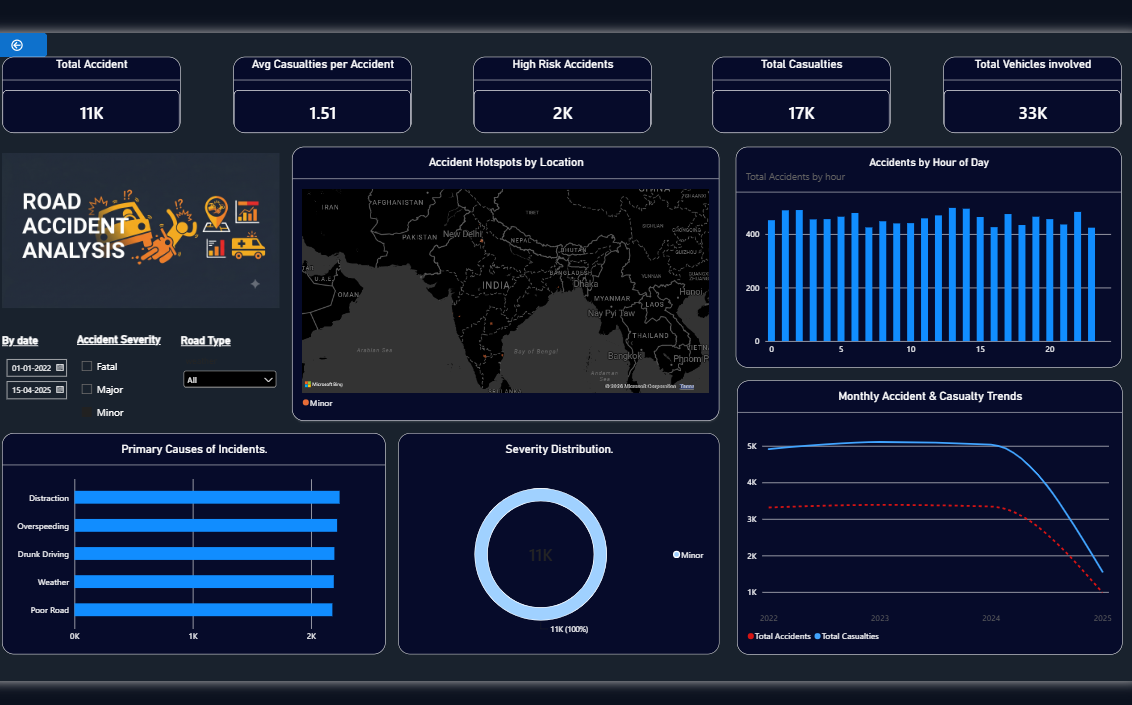

The dashboard page shown, as its layout file describes it:
{"tool":"powerbi","page":{"name":"Page 1","canvas":[1920,1080],"ordinal":0},"visuals":[{"type":"filledMap","title":"Accident Hotspots by Location","fields":{"Category":["road accident (2).city"],"Series":["road accident (2).accident_severity"],"Y":["Avg(road accident (2).latitude)"],"X":["Avg(road accident (2).longitude)"]},"box":[508.4,189.4,712.2,456.9],"z":0},{"type":"actionButton","box":[0,0,100,40],"z":1000},{"type":"donutChart","title":"Severity Distribution.","fields":{"Y":["_Measures.Total Accidents"],"Category":["road accident (2).accident_severity"]},"box":[685.4,666.9,535.2,368.4],"z":2000},{"type":"lineChart","title":"Monthly Accident & Casualty Trends","fields":{"Category":["Dim_Date.Date.Variation.Date Hierarchy.Year","Dim_Date.Date.Variation.Date Hierarchy.Quarter","Dim_Date.Date.Variation.Date Hierarchy.Month","Dim_Date.Date.Variation.Date Hierarchy.Day"],"Y":["_Measures.Total Accidents","_Measures.Total Casualties"]},"box":[1249.4,578.4,642.2,456.9],"z":3000},{"type":"barChart","title":"Primary Causes of Incidents.","fields":{"Category":["road accident (2).cause"],"Y":["_Measures.Total Accidents"]},"box":[24.7,666.9,639,369],"z":4000},{"type":"cardVisual","title":"Total Accident","fields":{"Data":["_Measures.Total Accidents"]},"box":[25,39.5,297.5,126.9],"z":5000},{"type":"cardVisual","title":"Avg Casualties per Accident","fields":{"Data":["_Measures.Avg Casualties per Accident"]},"box":[409.9,39.5,297.5,126.9],"z":6000},{"type":"cardVisual","title":"High Risk Accidents","fields":{"Data":["_Measures.High Risk Accidents"]},"box":[809.4,39.5,297.5,126.9],"z":7000},{"type":"cardVisual","title":"Total Casualties","fields":{"Data":["_Measures.Total Casualties"]},"box":[1208.8,39.5,297.5,126.9],"z":8000},{"type":"cardVisual","title":"Total Vehicles involved","fields":{"Data":["_Measures.Total Vehicles Involved"]},"box":[1593.8,39.5,297.5,126.9],"z":9000},{"type":"columnChart","title":"Accidents by Hour of Day","fields":{"Y":["_Measures.Total Accidents"],"Category":["road accident (2).hour"]},"box":[1248.4,189.3,642.9,368.3],"z":10000},{"type":"slicer","title":"By date","fields":{"Values":["road accident (2).date"]},"box":[25,502,147.9,114.6],"z":10001},{"type":"slicer","title":"Accident Severity","fields":{"Values":["road accident (2).accident_severity"]},"box":[150,499.9,220.8,156.2],"z":10002},{"type":"slicer","title":"Road Type","fields":{"Values":["road accident (2).weather"]},"box":[322.8,502,164.5,114.6],"z":10003},{"type":"image","box":[25,189.5,462.4,279.1],"z":10004}]}

Visuals, with their boxes on the page's 1920x1080 design canvas (x1, y1, x2, y2). These are canvas units, not pixel positions in the 1132x705 screenshot, which may show the page scaled, cropped or inside an application window:
"Accident Hotspots by Location" filledMap: box(508, 189, 1221, 646)
actionButton: box(0, 0, 100, 40)
"Severity Distribution." donutChart: box(685, 667, 1221, 1035)
"Monthly Accident & Casualty Trends" lineChart: box(1249, 578, 1892, 1035)
"Primary Causes of Incidents." barChart: box(25, 667, 664, 1036)
"Total Accident" cardVisual: box(25, 40, 322, 166)
"Avg Casualties per Accident" cardVisual: box(410, 40, 707, 166)
"High Risk Accidents" cardVisual: box(809, 40, 1107, 166)
"Total Casualties" cardVisual: box(1209, 40, 1506, 166)
"Total Vehicles involved" cardVisual: box(1594, 40, 1891, 166)
"Accidents by Hour of Day" columnChart: box(1248, 189, 1891, 558)
"By date" slicer: box(25, 502, 173, 617)
"Accident Severity" slicer: box(150, 500, 371, 656)
"Road Type" slicer: box(323, 502, 487, 617)
image: box(25, 190, 487, 469)
